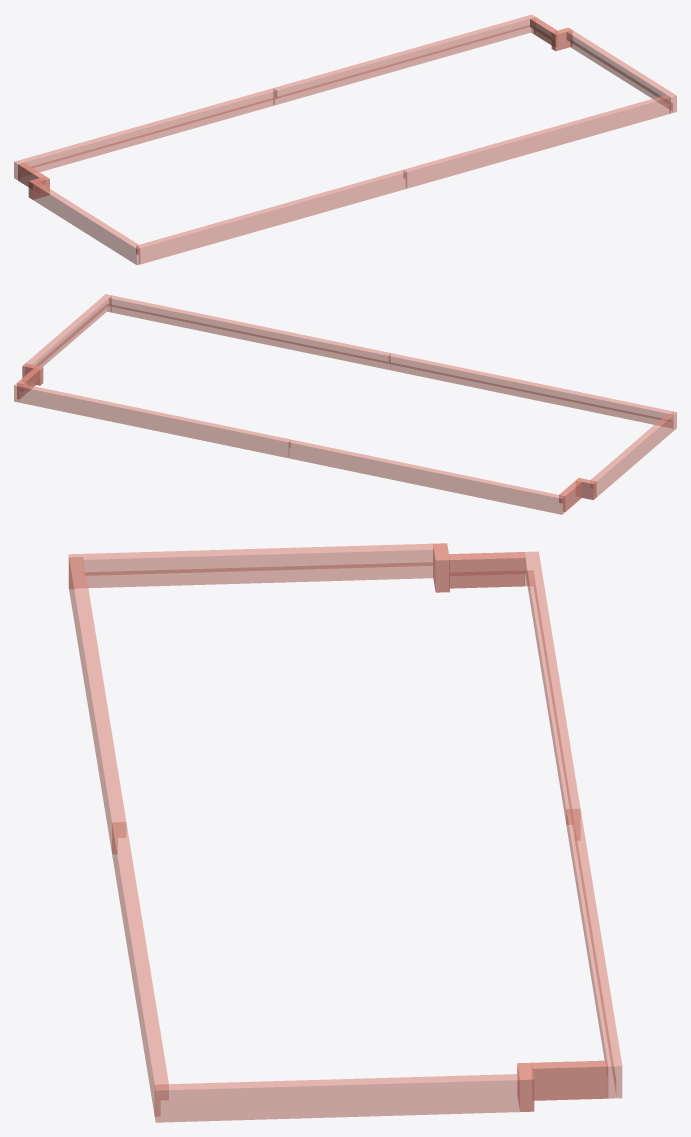
File: Level_04_structure.glb
3 renders of one model, top to bottom at view 1: azimuth 30°, elevation 25°; view 2: azimuth 150°, elevation 25°; view 3: azimuth 270°, elevation 25°, orthographic. The views are drawn at different scales.
Parts seen in each view (by area): view 1: world; view 2: world; view 3: world.
Part boxes in pixels (<box>): world: <box>14,14,676,265</box>; world: <box>14,294,676,514</box>; world: <box>68,543,622,1122</box>.
Size of the model in its own units: 40.27 by 1.1 by 17.22.
